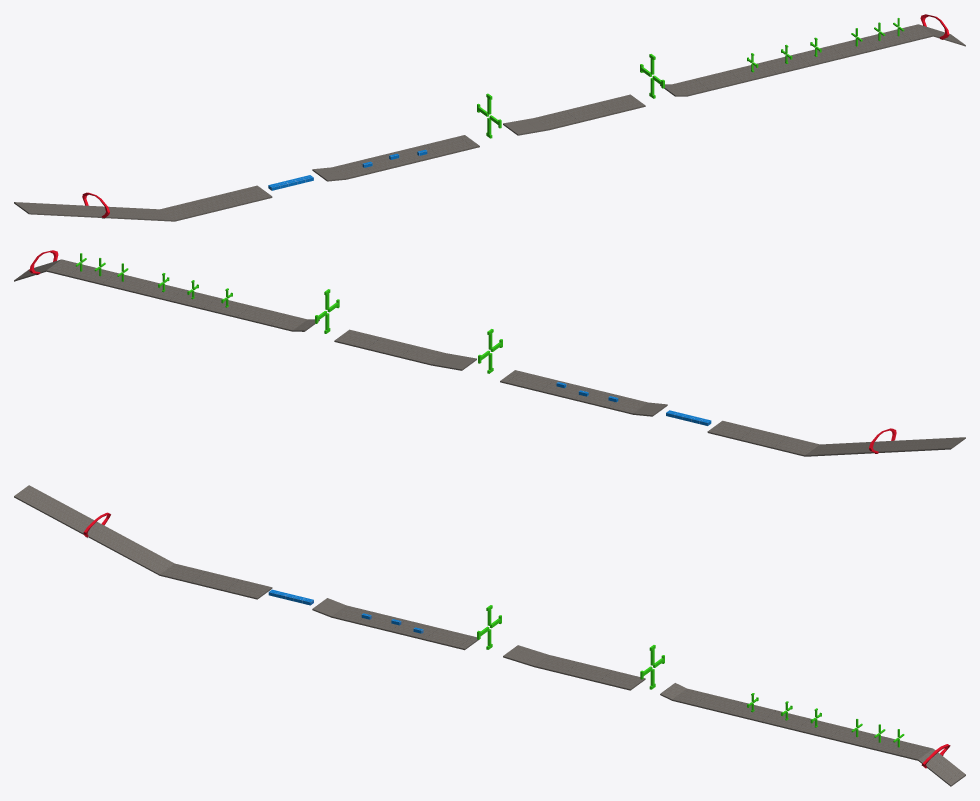
3 views of the same model, one above another, from view 1: azimuth 30°, elevation 25°; view 2: azimuth 150°, elevation 25°; view 3: azimuth 330°, elevation 25° (orthographic).
Parts seen in each view (by area): view 1: Plane.001; view 2: Plane.001; view 3: Plane.001.
Boxes of the visible parts, x1=… form: Plane.001: x1=14, y1=14, x2=965, y2=221; Plane.001: x1=14, y1=250, x2=965, y2=456; Plane.001: x1=14, y1=485, x2=965, y2=786.
Size of the model in its own units: 18182 by 1153 by 875.
Materials: 5 (2 with a texture image).
